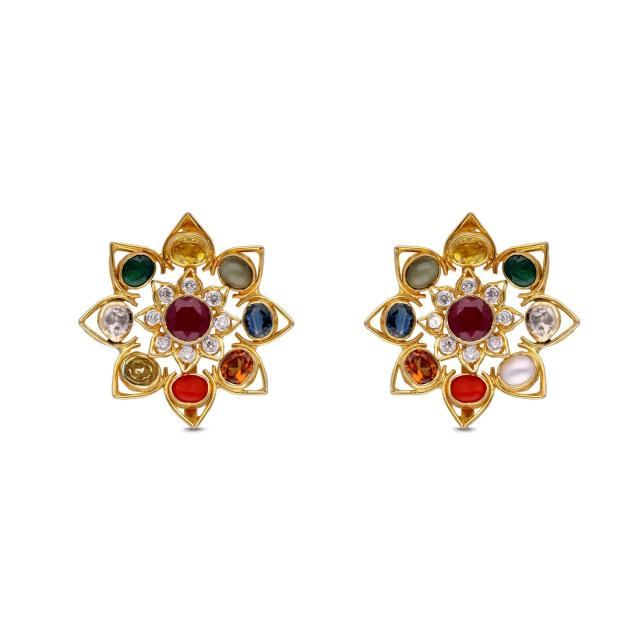missing gem: (122, 356, 158, 386)
